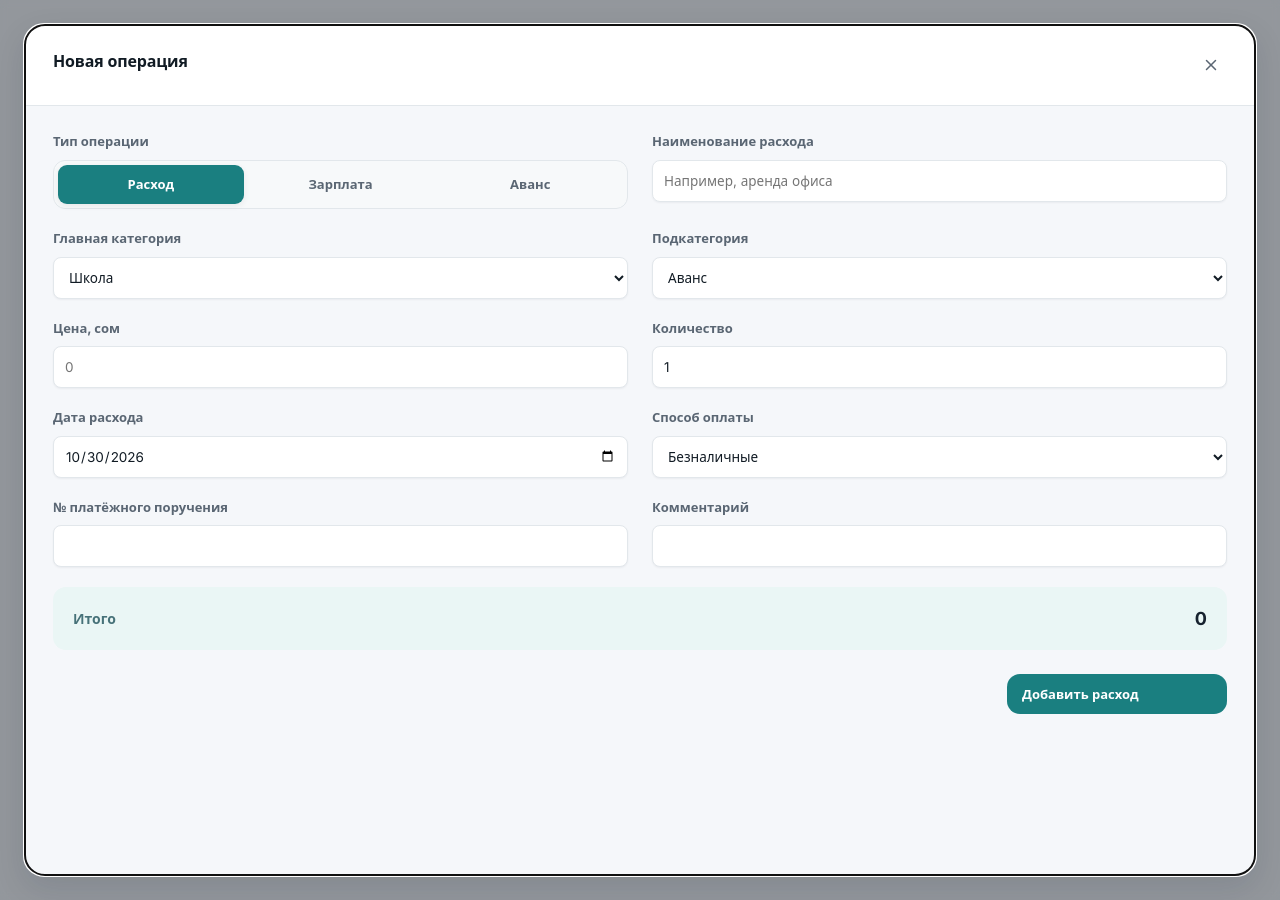
Test: new school expense changes to salary inside the same card
The image size is (1280, 900).
Step 1. Select "ЗП" in the dropdown labelled "Подкатегория" → (940, 278), box [652,256,1227,298]
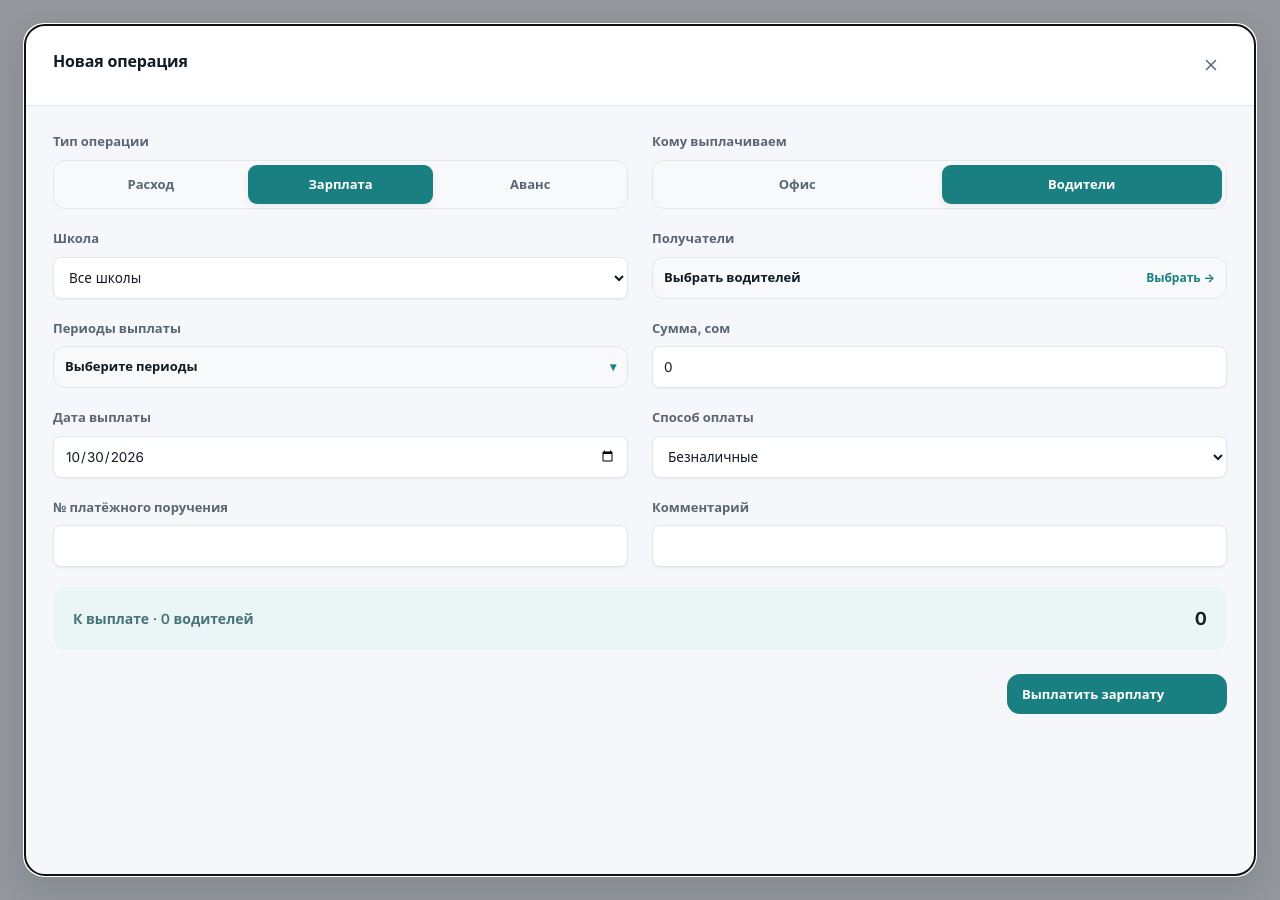
Check: the button named "Периоды выплаты" is shown, box [53,346,628,388]
